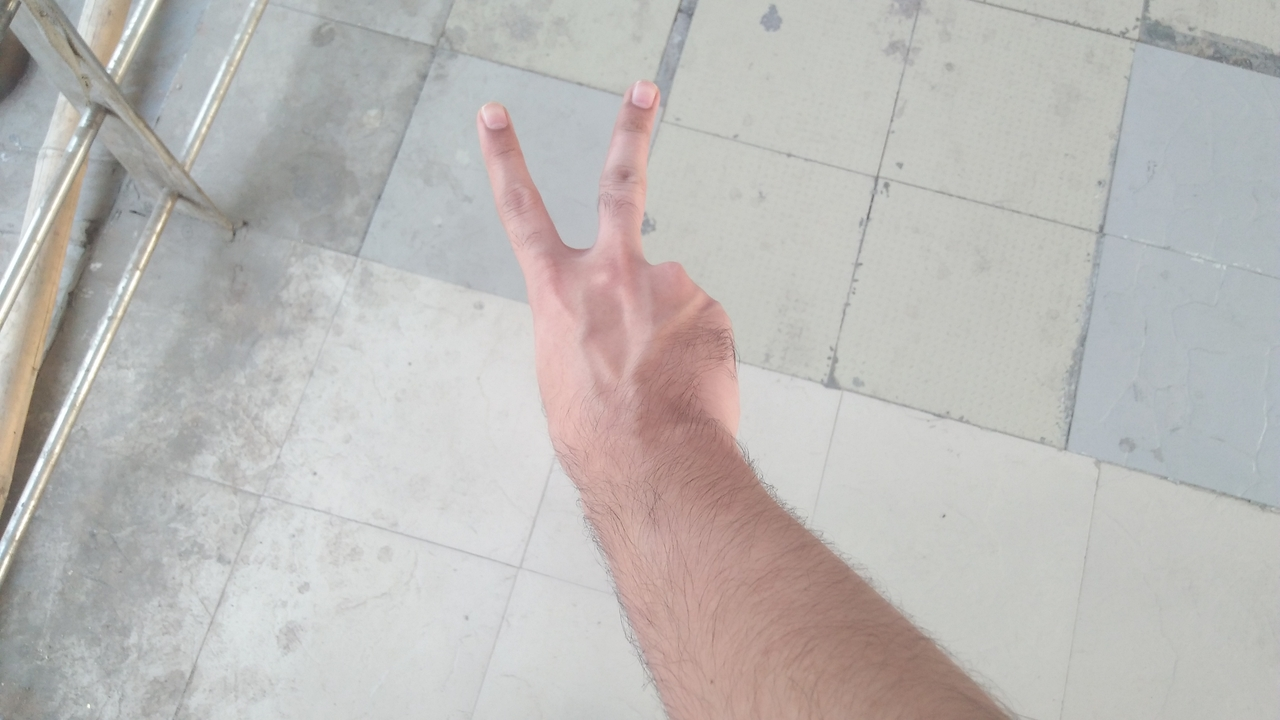fingertip: (610, 66, 666, 116), (464, 90, 522, 138)
